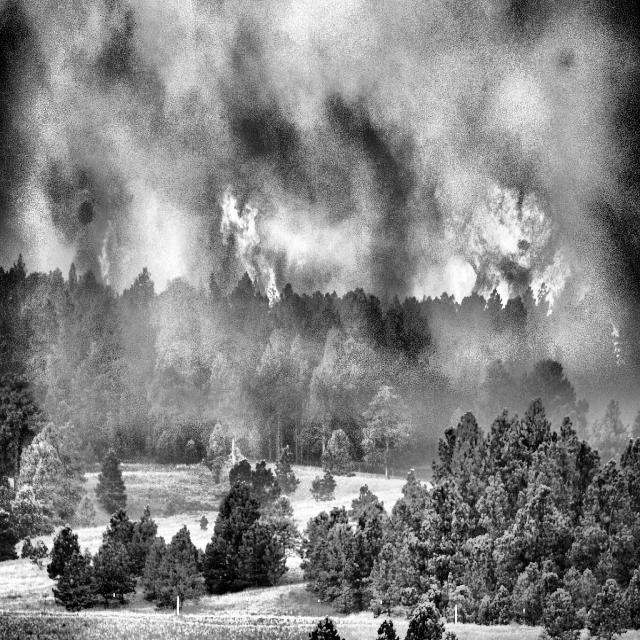fire: (1, 142, 616, 382)
